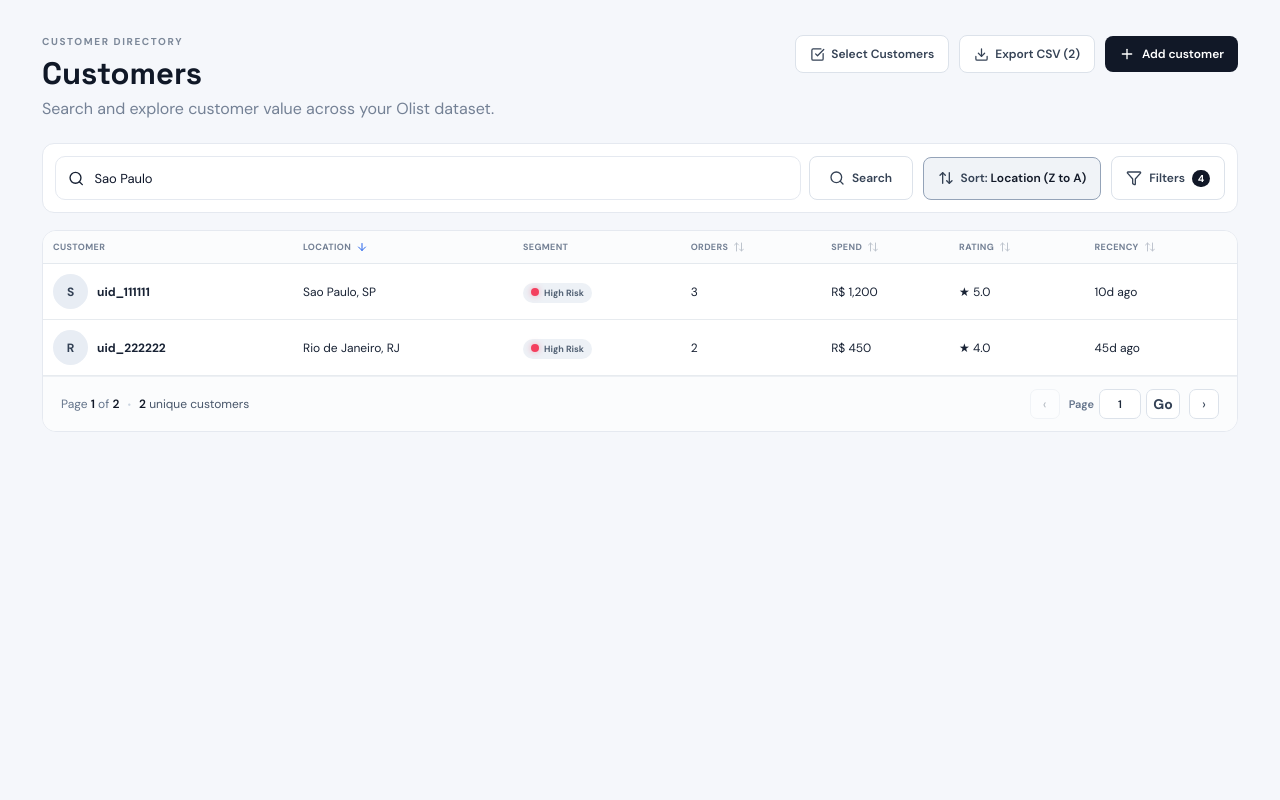
Test: Customers Directory Page › applies and clears advanced filter criteria
Expected: the text "uid_111111" is shown, [97,284,150,300]
Open filters
Click the button "Filters 4".
click(1168, 178)  # box [1111,156,1225,200]
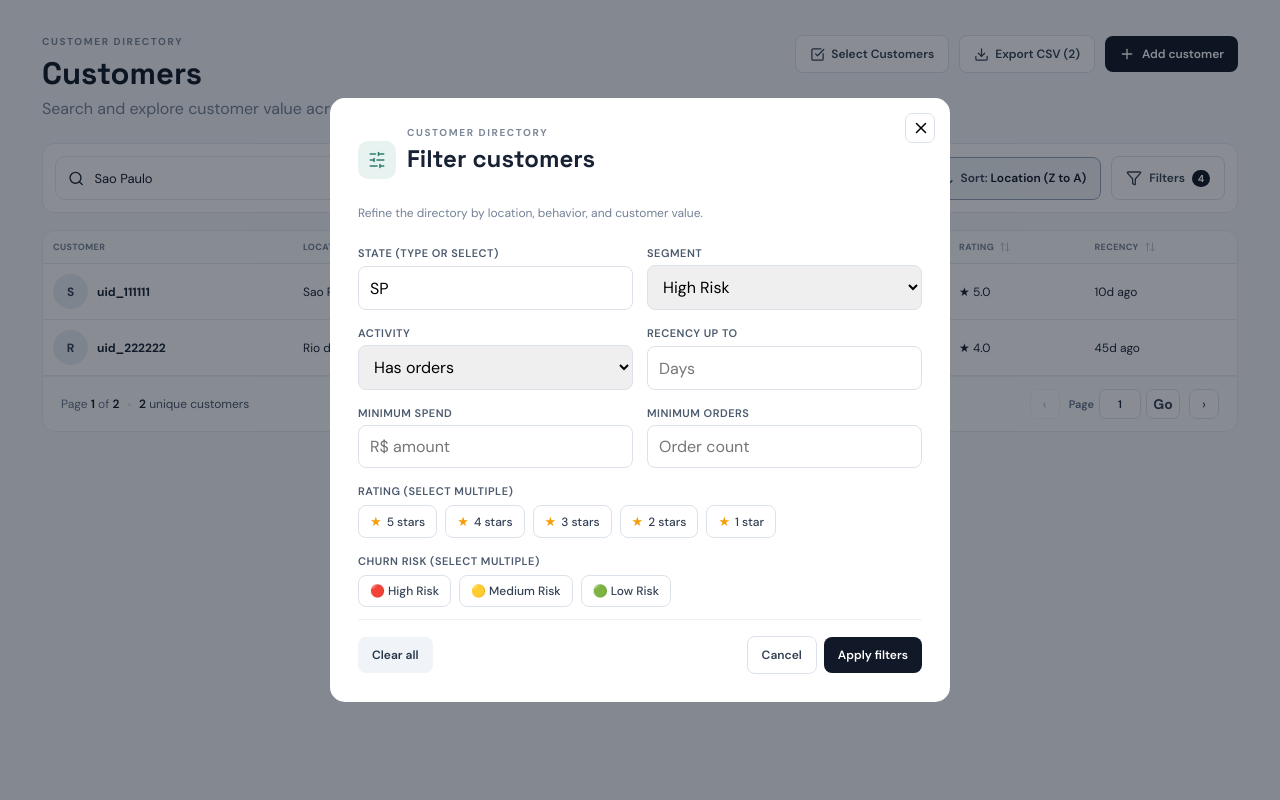
Expected: the heading "Filter customers" is shown, [407,143,595,174]
Apply filters
Click the button "Apply filters".
click(873, 655)  # box [824,637,922,673]
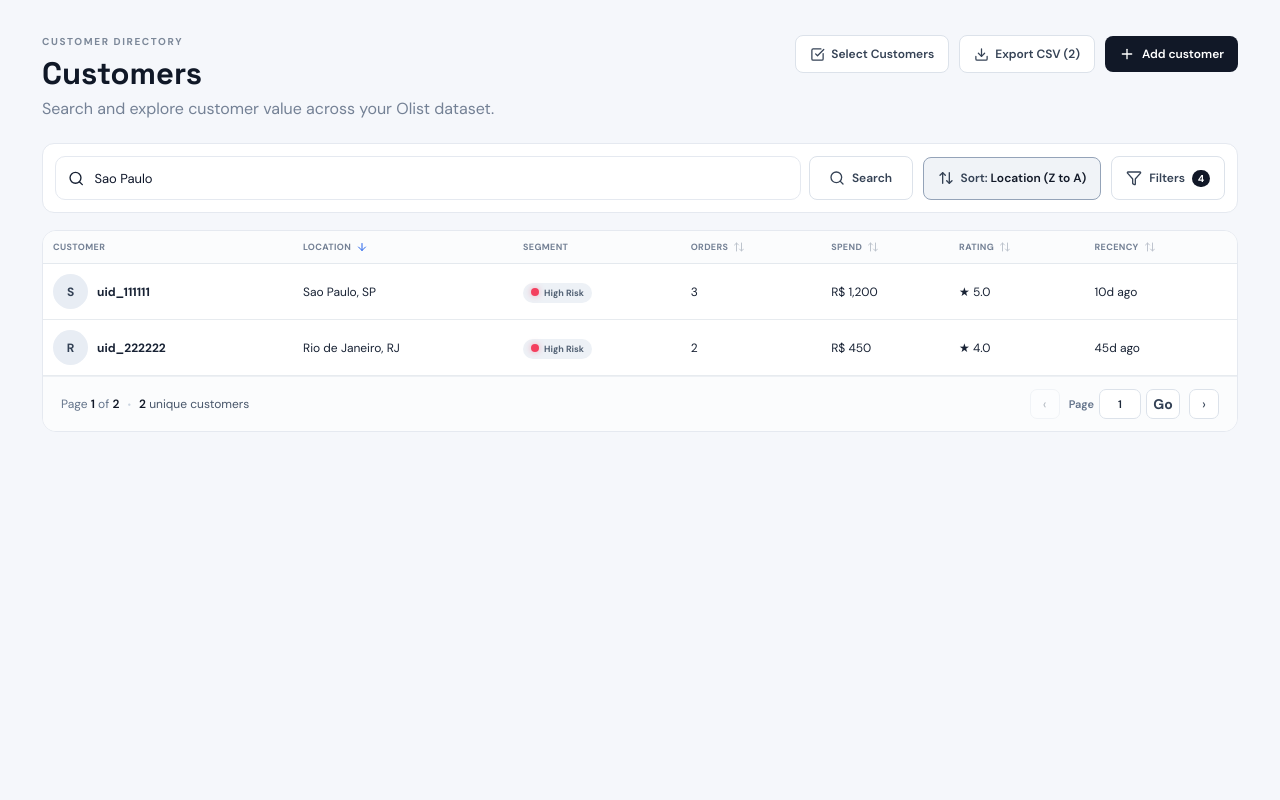
Close filters modal
Click the button "Filters 4".
click(1168, 178)  # box [1111,156,1225,200]
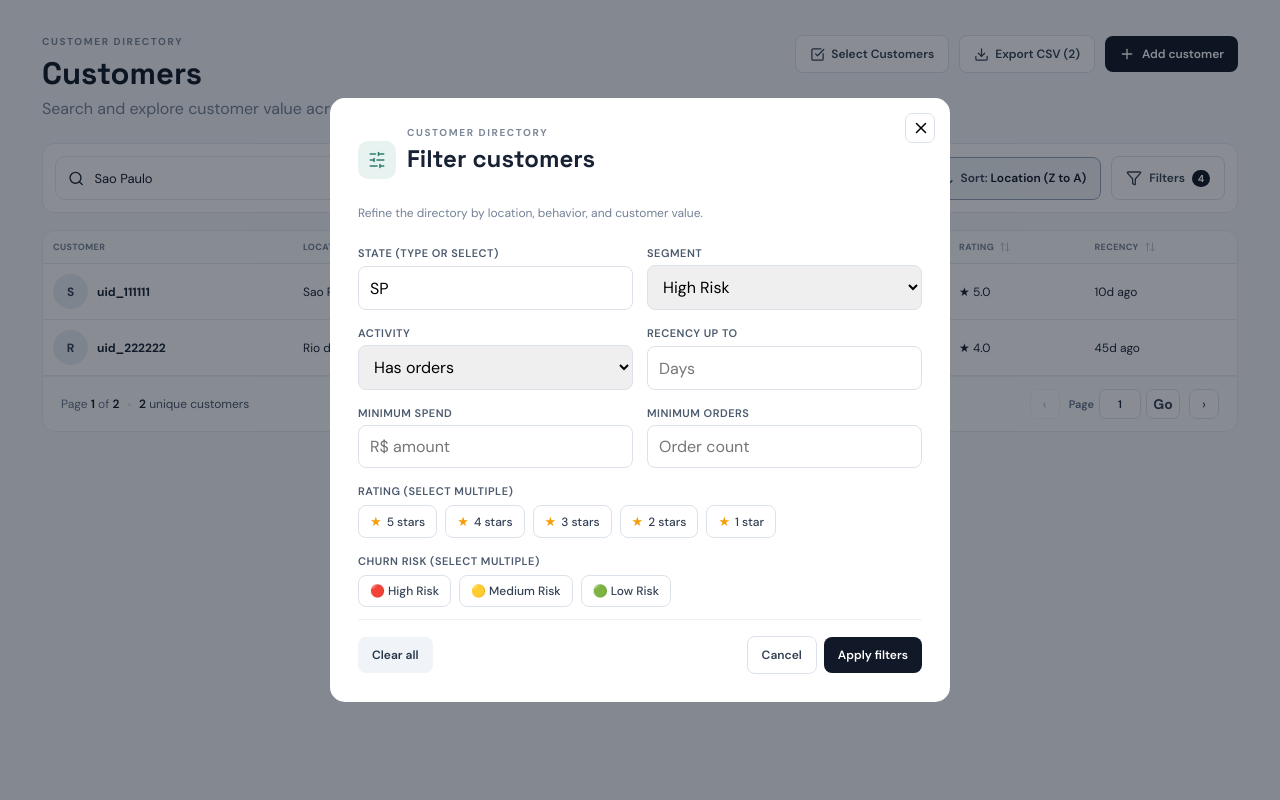
Click the button "Cancel".
click(782, 655)  # box [747,636,817,674]
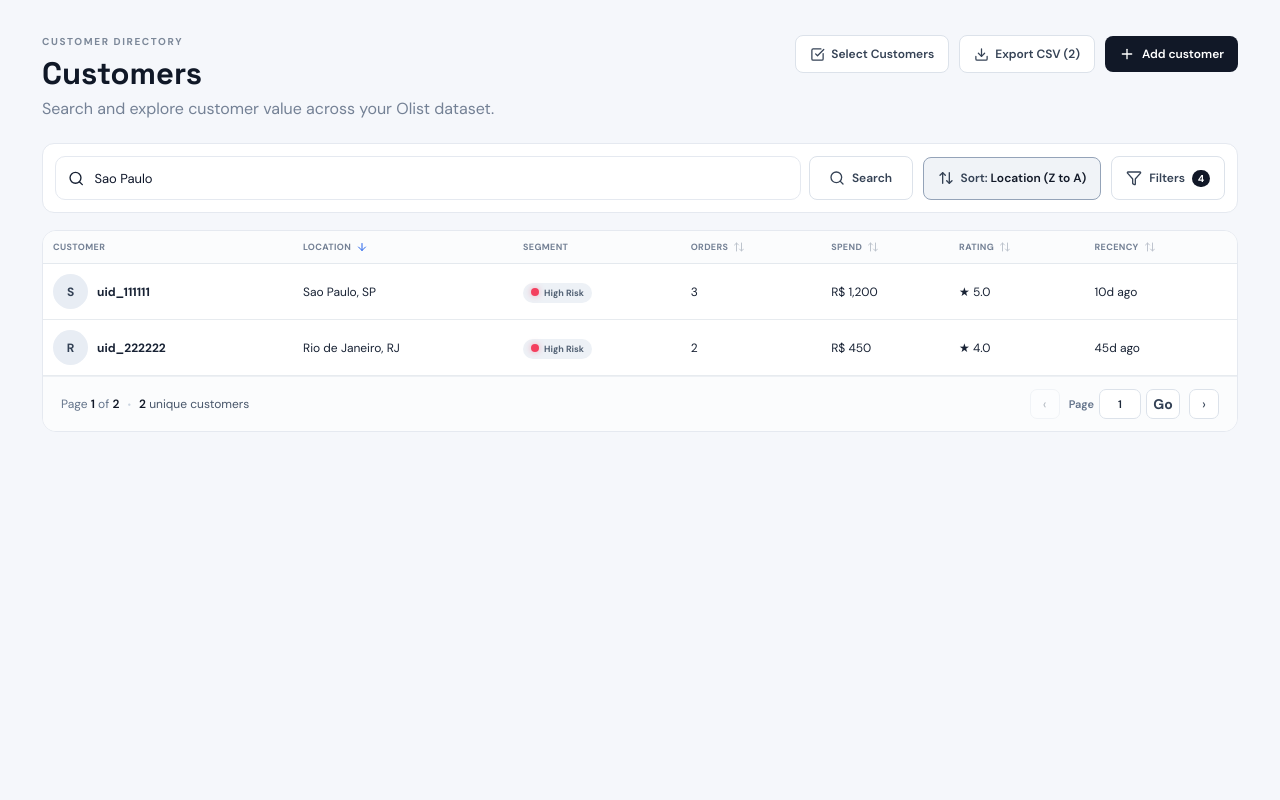
Expected: the heading "Filter customers" is gone
